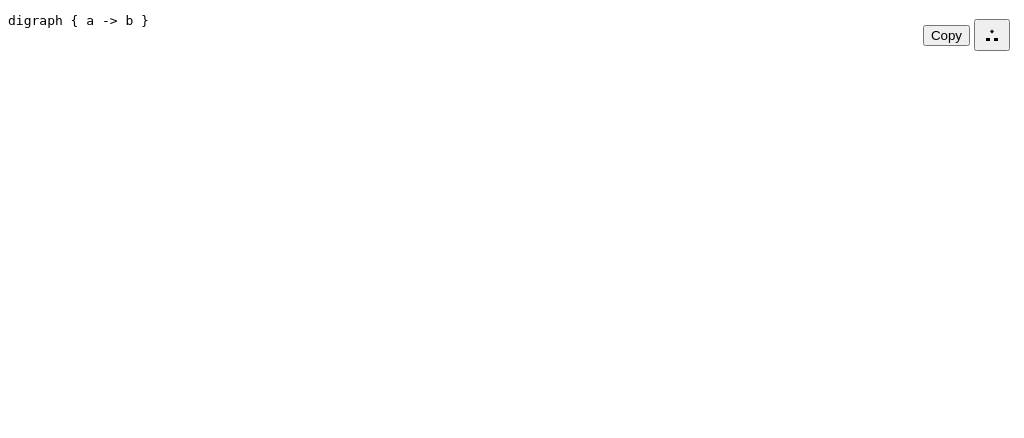
Test case: diagram preview controls › maps dot to Graphviz without loading Mermaid
Click the button named "Preview diagram" at (992, 35), box [974,19,1010,51]
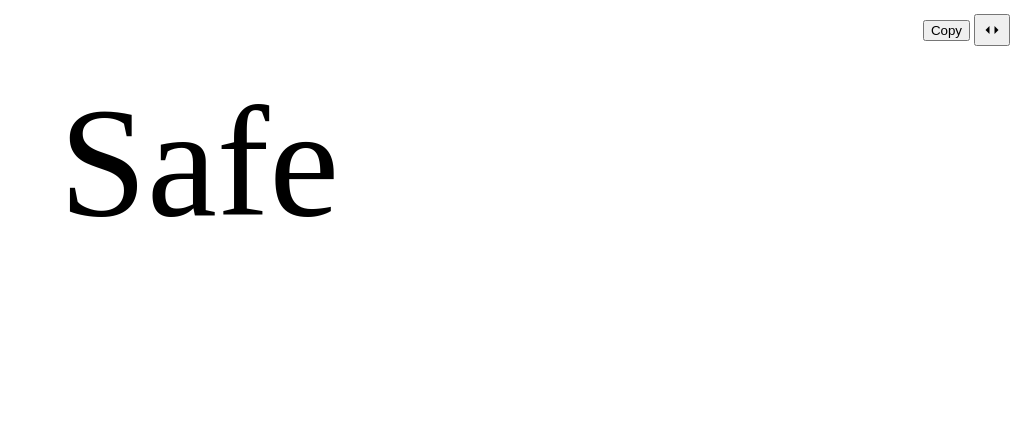
Result: the element with class "diagram-preview--graphviz" is shown
